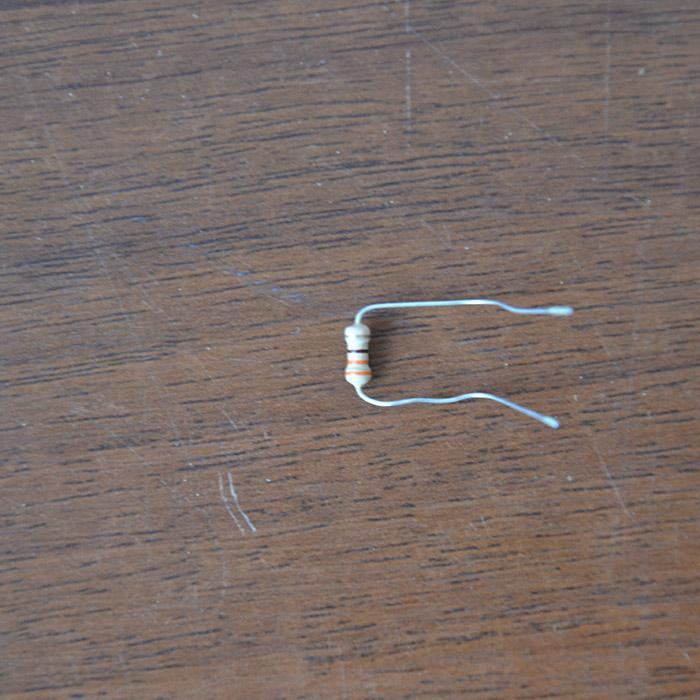resistor: (343, 333, 372, 389)
